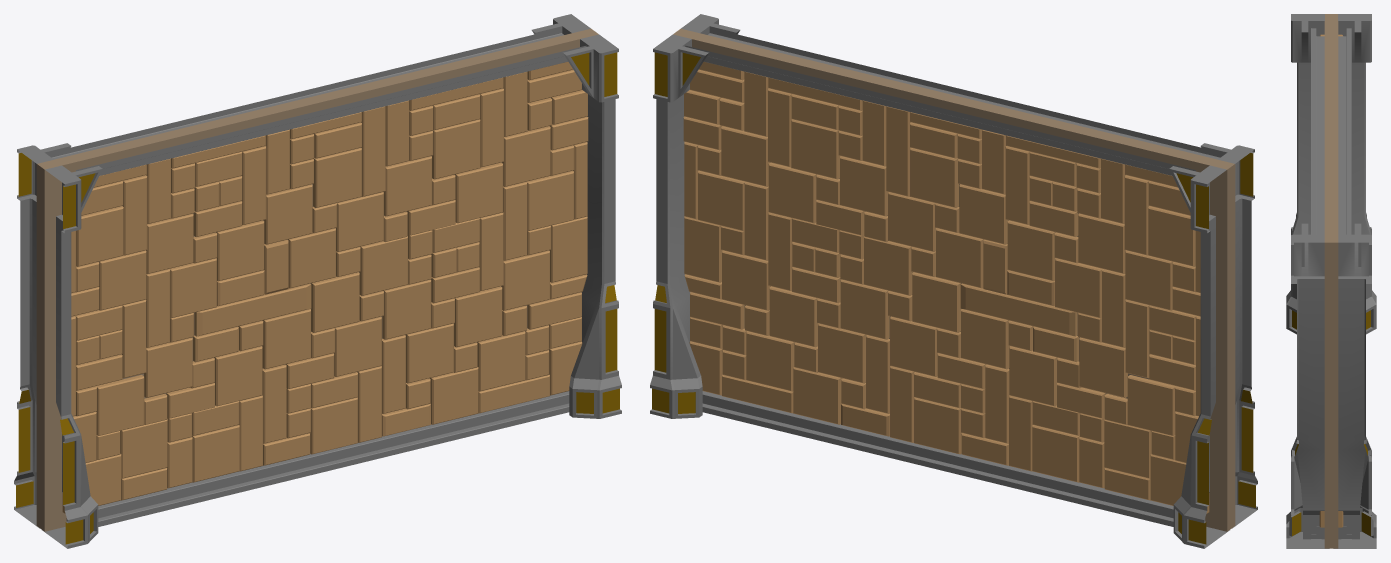
File: wall_double_LR.fbx
3 views of the same model, side by side, from view 1: azimuth 30°, elevation 25°; view 2: azimuth 150°, elevation 25°; view 3: azimuth 270°, elevation 25° (orthographic). The views are drawn at different scales.
Parts seen in each view (by area): view 1: wall_double_LR; view 2: wall_double_LR; view 3: wall_double_LR.
Part boxes in pixels (bbox=[...]): wall_double_LR: bbox=[14, 14, 621, 548]; wall_double_LR: bbox=[650, 14, 1257, 548]; wall_double_LR: bbox=[1286, 14, 1376, 548].
Bounding box in the file's own units: 157 × 26.33 × 98.43.
